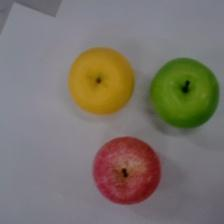green: (150, 58, 219, 129)
red: (93, 136, 160, 204)
yellow: (69, 47, 133, 115)
